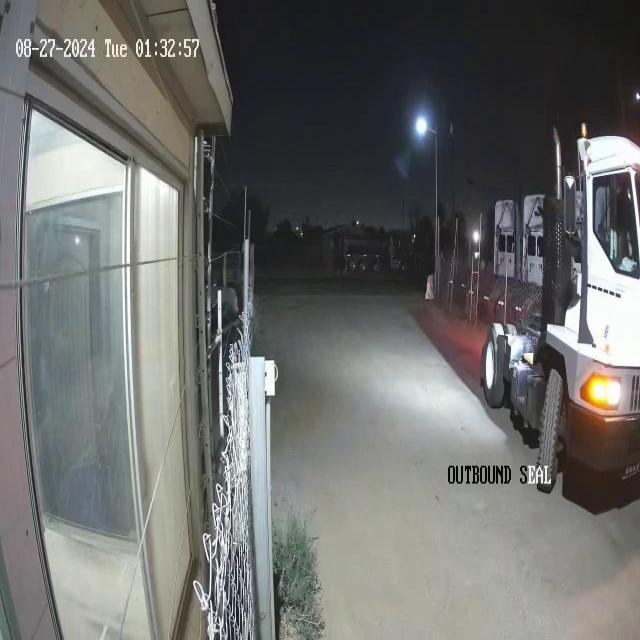TRUCK_IN: (480, 121, 640, 515)
